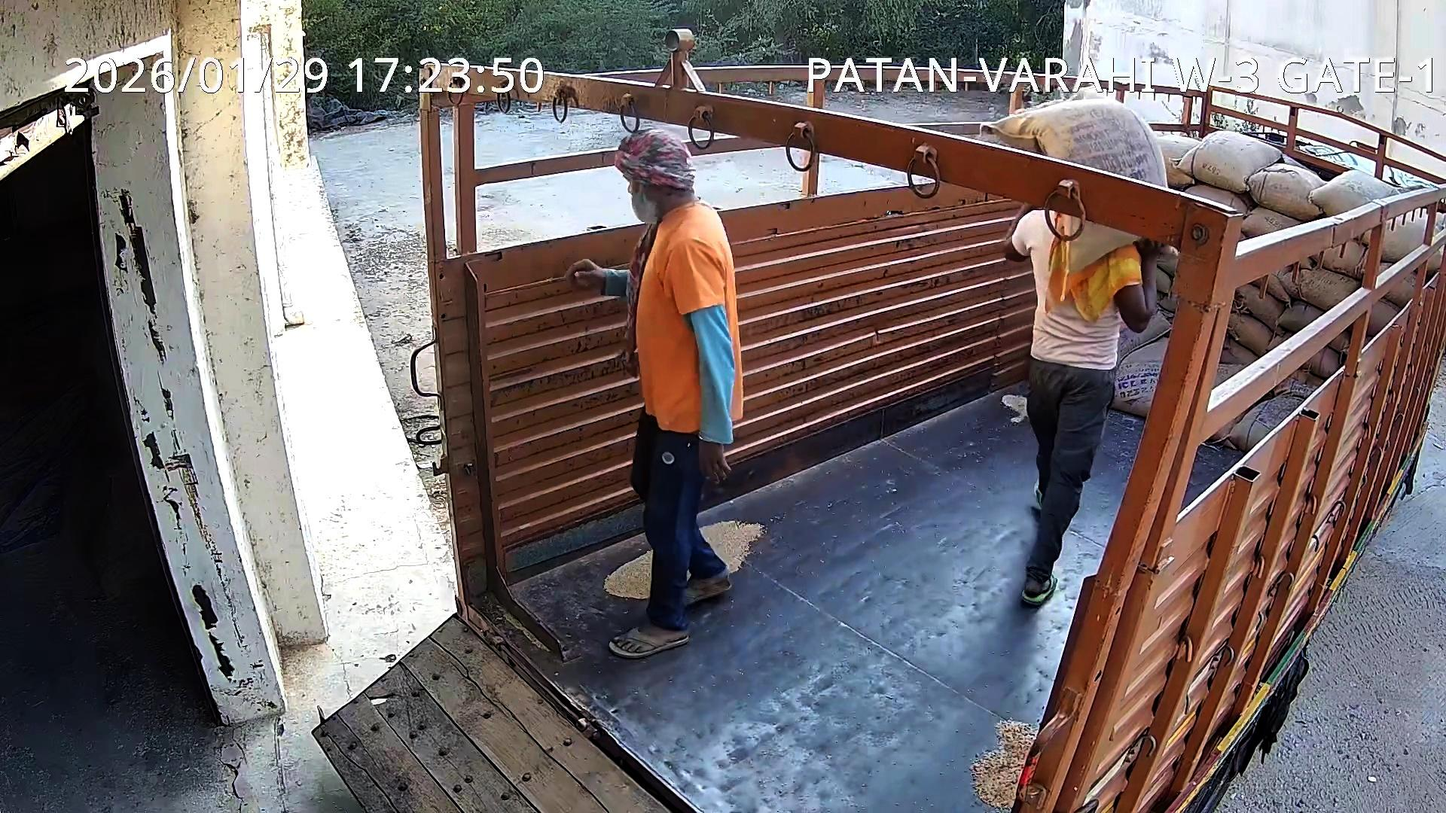Sack: (981, 93, 1167, 187), (1066, 209, 1139, 272)
